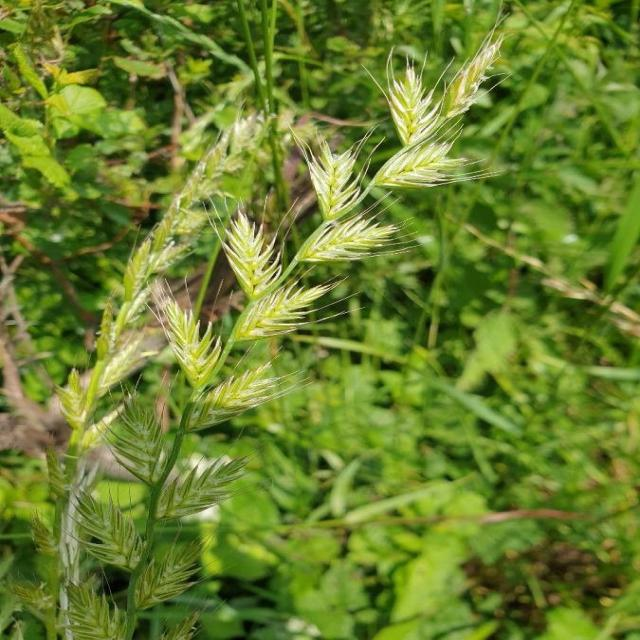Lolium: (116, 34, 508, 640), (46, 105, 266, 640)
